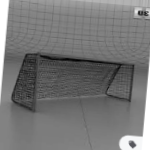goals: (10, 50, 137, 113)
